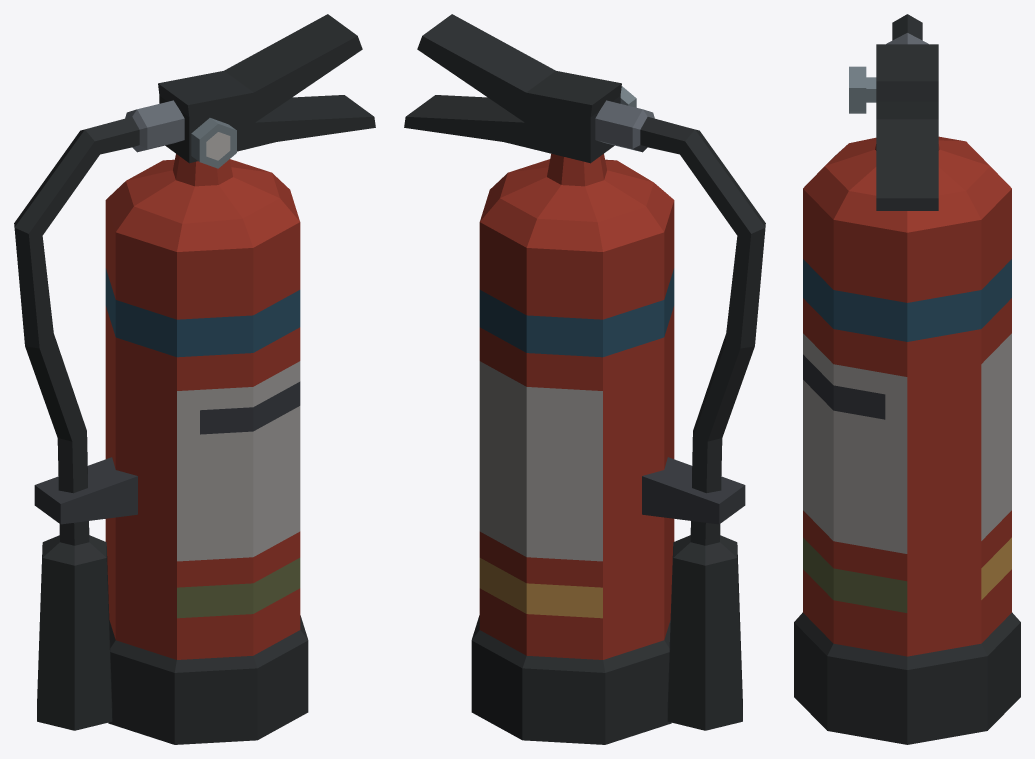
Rendered from SM_Prop_Extinguisher_01.obj.
3 renders of one model, left to right at view 1: azimuth 30°, elevation 25°; view 2: azimuth 150°, elevation 25°; view 3: azimuth 270°, elevation 25°, orthographic. The views are drawn at different scales.
Parts seen in each view (by area): view 1: SM_Prop_Extinguisher_01_0; view 2: SM_Prop_Extinguisher_01_0; view 3: SM_Prop_Extinguisher_01_0.
Boxes of the visible parts, bbox=[...] form: SM_Prop_Extinguisher_01_0: bbox=[14, 14, 375, 744]; SM_Prop_Extinguisher_01_0: bbox=[404, 14, 765, 744]; SM_Prop_Extinguisher_01_0: bbox=[794, 14, 1020, 744].
Size of the model in its own units: 0.3014 by 0.5331 by 0.1645.
1 material, 1 textured.
